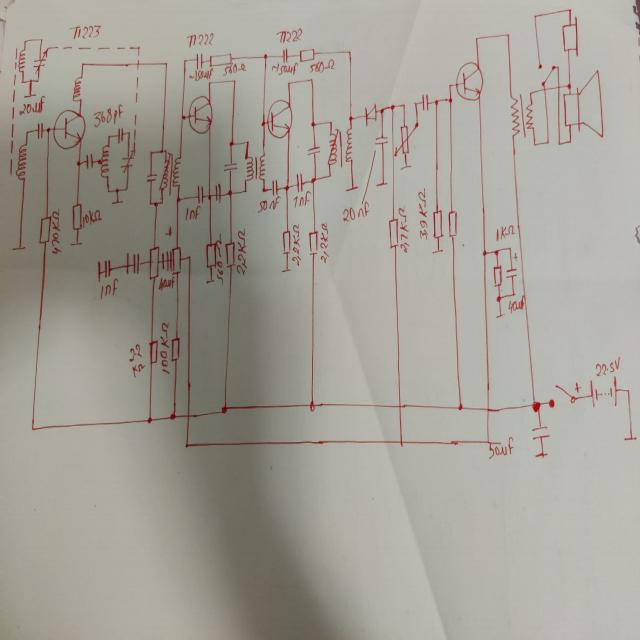capacitor: (118, 148, 136, 175), (32, 48, 48, 76), (132, 250, 144, 285), (164, 222, 172, 274), (505, 250, 518, 280), (530, 423, 550, 441), (306, 140, 322, 158), (308, 230, 318, 256), (297, 47, 315, 61), (372, 136, 389, 150), (222, 159, 238, 173), (103, 254, 111, 281), (420, 91, 430, 112), (282, 46, 292, 65), (196, 183, 204, 206), (214, 182, 222, 204), (295, 171, 303, 193), (196, 50, 204, 70), (270, 178, 278, 198), (36, 120, 44, 140), (85, 151, 93, 170), (145, 171, 157, 183), (116, 125, 124, 143)
crossover: (484, 404, 490, 412), (397, 402, 403, 410), (186, 411, 190, 419)
diode: (363, 102, 377, 126)
ground: (95, 258, 101, 282), (534, 449, 548, 459), (344, 184, 358, 192), (22, 92, 38, 99), (375, 180, 388, 188), (278, 266, 292, 273), (69, 239, 83, 246), (494, 311, 506, 319), (431, 247, 444, 254), (399, 163, 411, 170), (110, 199, 124, 205), (205, 276, 215, 284)
inductor: (5, 44, 31, 192)
junction: (531, 399, 541, 413), (308, 399, 316, 412), (220, 404, 228, 413), (169, 410, 176, 420), (625, 384, 631, 395), (146, 415, 153, 424), (310, 174, 316, 184), (457, 402, 463, 412), (228, 138, 234, 148), (433, 96, 439, 106), (412, 98, 418, 108), (75, 158, 81, 167), (310, 119, 316, 128), (347, 113, 353, 122), (398, 438, 404, 447), (30, 423, 36, 432), (447, 95, 453, 104), (179, 112, 185, 121), (493, 247, 499, 256), (175, 195, 181, 204), (389, 102, 395, 111), (496, 293, 502, 302), (481, 248, 487, 256), (227, 188, 233, 196), (148, 148, 154, 156), (566, 137, 572, 145), (400, 100, 406, 108), (446, 80, 452, 88), (473, 34, 479, 42), (566, 6, 572, 14), (27, 76, 33, 84), (38, 34, 44, 42), (152, 200, 158, 208), (285, 78, 291, 86), (284, 182, 290, 190), (262, 52, 268, 59), (544, 138, 550, 145), (183, 441, 189, 448), (22, 37, 28, 44), (148, 199, 154, 206), (556, 138, 561, 146), (158, 146, 163, 154), (346, 48, 352, 54), (242, 187, 248, 193), (505, 31, 510, 38), (532, 12, 537, 19), (114, 186, 119, 193), (244, 138, 249, 145), (124, 185, 129, 192), (414, 121, 419, 128), (25, 127, 29, 135), (232, 77, 237, 83), (207, 79, 212, 85), (187, 253, 191, 260), (80, 60, 84, 67), (164, 59, 168, 66), (309, 76, 313, 83), (532, 140, 536, 147), (327, 172, 331, 179), (182, 56, 186, 63), (328, 118, 332, 125), (46, 126, 50, 133), (262, 186, 266, 193), (261, 119, 265, 126), (126, 130, 130, 137), (106, 187, 110, 193), (508, 245, 512, 251), (20, 78, 24, 84), (511, 291, 515, 297), (207, 193, 211, 199), (107, 133, 111, 139), (36, 78, 40, 82)
resistor: (393, 122, 414, 160), (97, 143, 112, 179), (147, 245, 161, 280), (168, 245, 182, 276), (37, 214, 51, 244), (208, 50, 232, 67), (388, 217, 400, 250), (431, 208, 443, 241), (70, 76, 84, 102), (70, 201, 82, 231), (169, 334, 181, 364), (205, 240, 217, 269), (148, 336, 160, 364), (224, 241, 236, 269), (282, 227, 291, 255), (492, 263, 502, 287)
source: (588, 376, 619, 409), (10, 242, 26, 254), (622, 432, 637, 443)
switch: (547, 382, 575, 408), (536, 60, 556, 87)
text: (158, 318, 172, 378), (127, 340, 147, 380), (92, 103, 123, 128), (341, 200, 371, 223), (18, 94, 46, 118), (416, 186, 428, 240), (488, 435, 514, 459), (236, 226, 248, 277), (67, 23, 101, 41), (398, 204, 410, 254), (214, 231, 224, 287), (49, 209, 61, 255), (594, 356, 620, 376), (186, 30, 214, 48), (275, 27, 302, 44), (256, 194, 281, 212), (291, 222, 301, 266), (507, 292, 527, 314), (291, 188, 313, 208), (319, 220, 329, 263), (98, 278, 118, 299), (269, 61, 299, 75), (221, 62, 247, 77), (82, 207, 102, 226), (189, 67, 215, 81), (308, 58, 334, 72), (183, 204, 203, 222), (495, 224, 515, 242), (156, 274, 176, 290), (573, 381, 582, 392)
transformer: (325, 124, 355, 166), (508, 91, 534, 138), (158, 150, 182, 195), (244, 152, 266, 182)
transistor: (51, 105, 85, 153), (454, 60, 484, 101), (267, 98, 295, 138), (187, 92, 213, 134)
